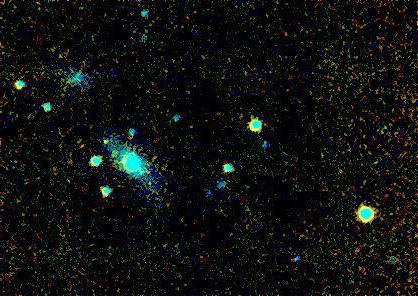star: (92, 131, 122, 161)
